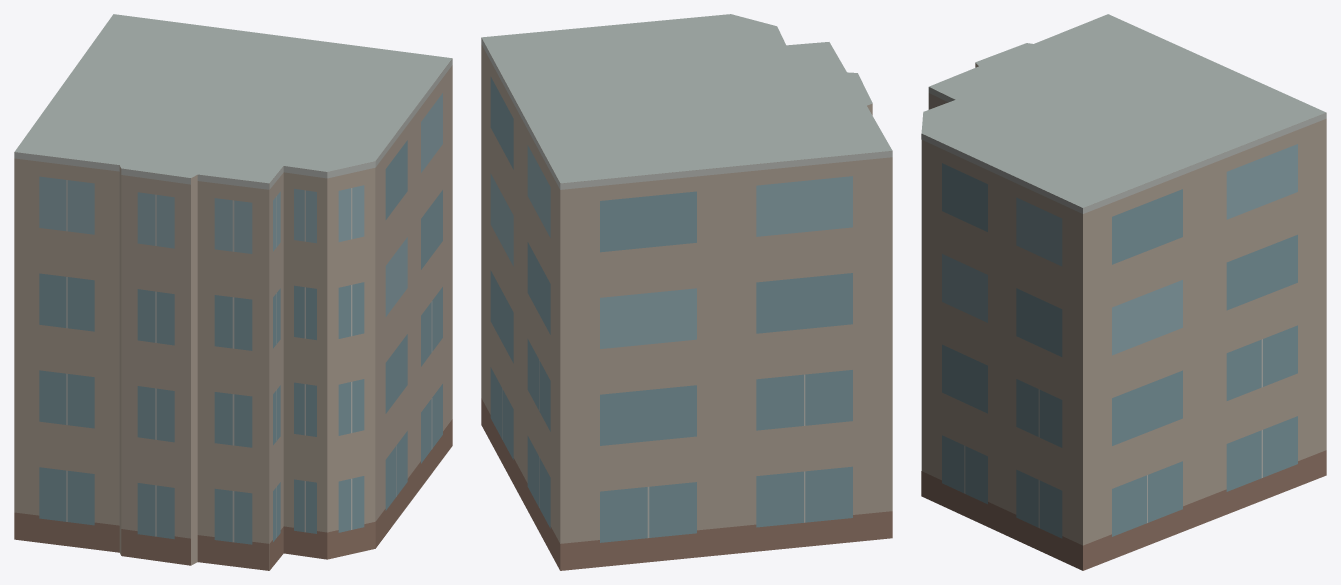
File: survey-upis-32590196.glb
3 renders of one model, left to right at view 1: azimuth 30°, elevation 25°; view 2: azimuth 150°, elevation 25°; view 3: azimuth 270°, elevation 25°, orthographic. The views are drawn at different scales.
Visible parts, largest first — view 1: survey-upis-32590196.tmp; view 2: survey-upis-32590196.tmp; view 3: survey-upis-32590196.tmp.
Part boxes in pixels (x1=…): survey-upis-32590196.tmp: x1=14, y1=14, x2=452, y2=570; survey-upis-32590196.tmp: x1=481, y1=14, x2=892, y2=570; survey-upis-32590196.tmp: x1=921, y1=14, x2=1326, y2=570.
Bounding box in the file's own units: 16.75 × 14.6 × 14.78.
